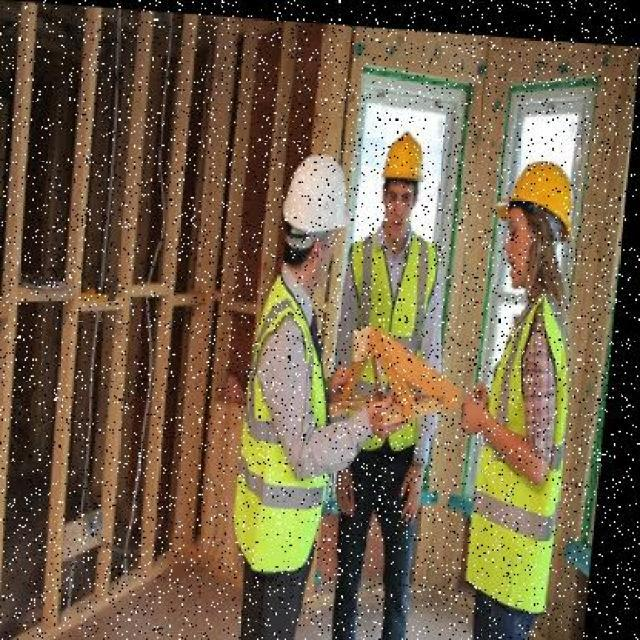helmet: (276, 137, 367, 245), (493, 137, 589, 231), (379, 114, 437, 188)
vest: (474, 277, 588, 611), (237, 259, 356, 574), (337, 220, 451, 462)
